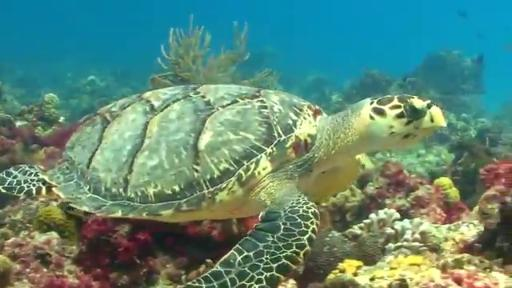Fish: (0, 85, 446, 287)
